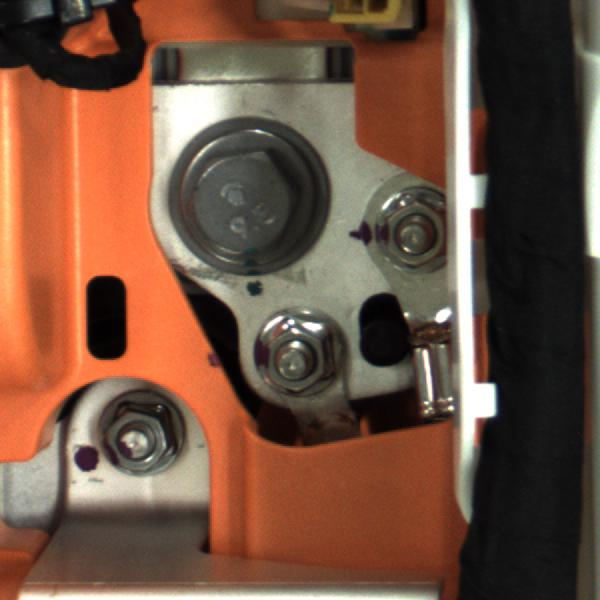nut_b: (161, 123, 330, 272)
screw_s: (100, 387, 212, 487), (242, 304, 357, 401), (374, 189, 455, 280)
